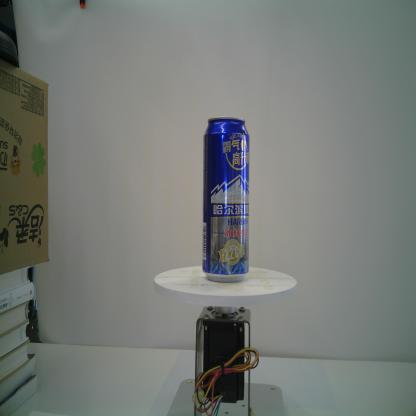Alcohol: (202, 116, 251, 285)
